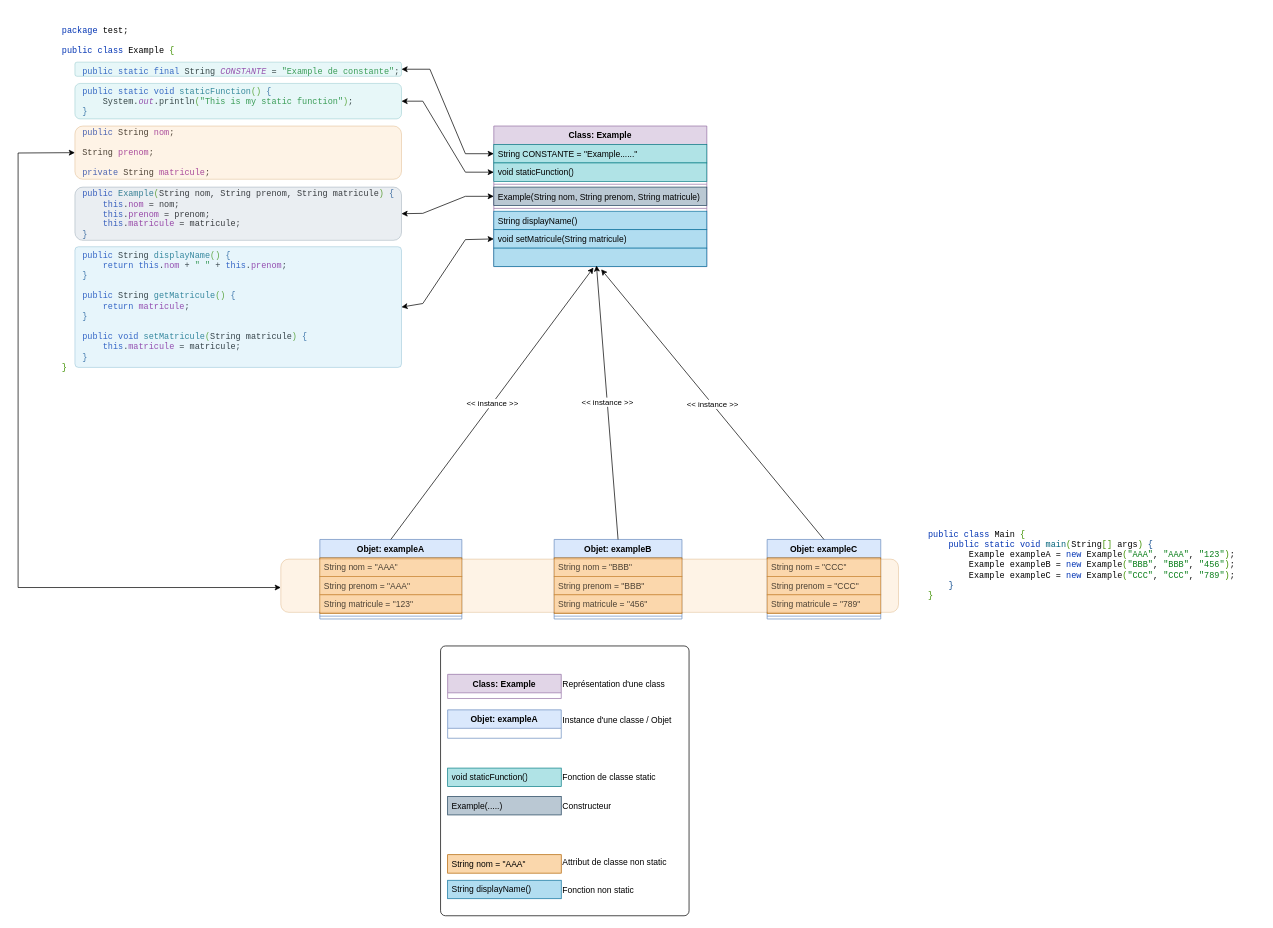
Some shapes in this 1273 by 928 pixel diagram are drawn without their labels. The box of each missing label's shape, as (x1, y1, x2, y2) in pixels:
Légende: (440, 645, 689, 916)
String getMatricule(): (493, 247, 707, 267)
